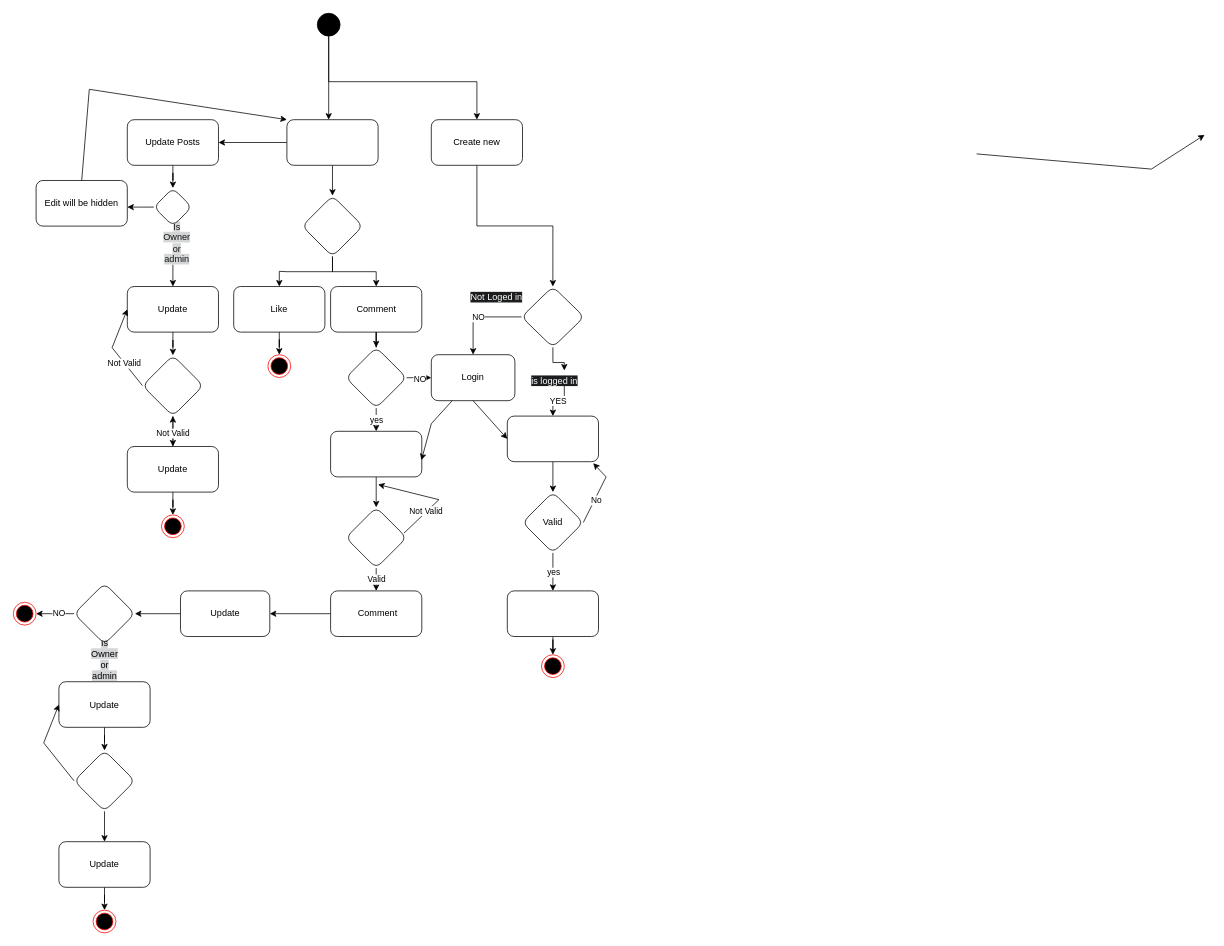
Image size: 1224x946. Some labels were removed from this diagram. The shapes that lost their labels are listed below. From the top down, each one's centre as x and y in pixels, then its label:
At point (332, 142): "View Post".
At point (376, 454): "Create Comment".
At point (552, 438): "Create Post".
At point (552, 613): "Post".
At point (104, 780): "Is Valid".
